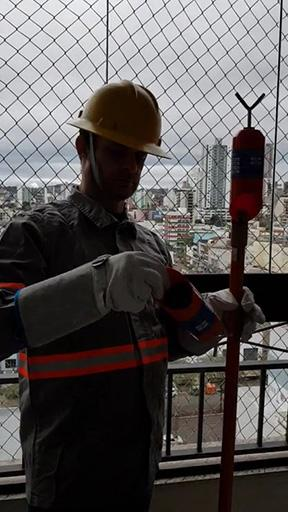Detector_Tensao_Contato: (150, 260, 228, 360), (230, 89, 268, 223)
Vara_Manobra: (218, 220, 249, 512)
